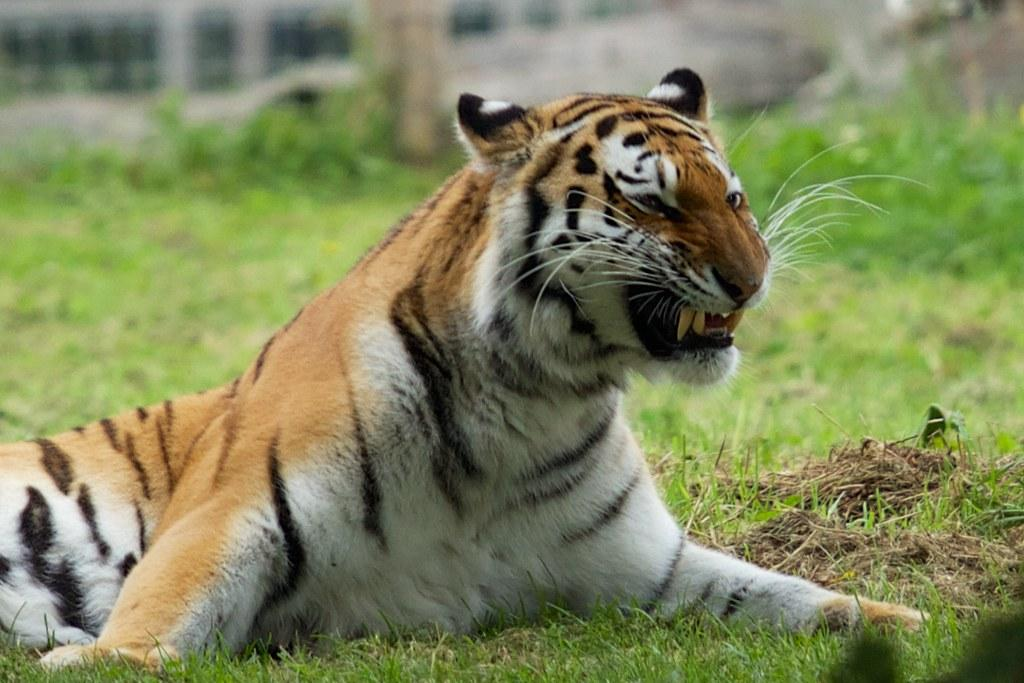tiger: (2, 66, 937, 676)
